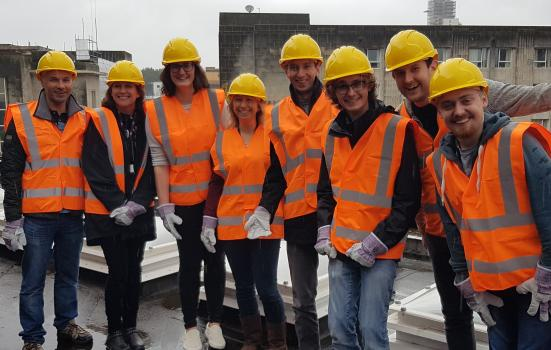Helmet: (423, 53, 497, 145), (381, 25, 443, 106), (320, 43, 377, 113), (271, 29, 327, 95), (152, 34, 207, 96), (31, 48, 81, 114), (97, 55, 149, 117), (219, 70, 272, 127)
Reflective vest: (426, 117, 550, 312), (322, 112, 418, 263), (145, 87, 227, 207), (3, 101, 86, 217), (269, 90, 342, 220), (213, 128, 286, 240), (86, 106, 153, 214)
